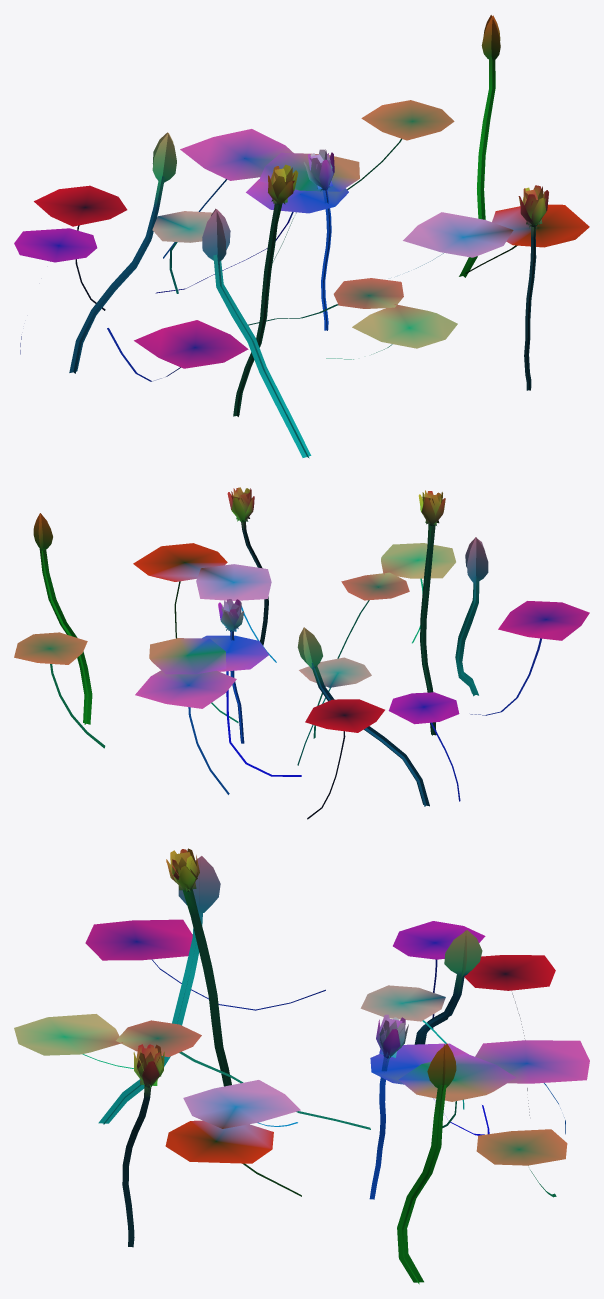
File: Rembrandt_Water_Lily_uc2kajgia_High_uc2kajgia_VarC_LOD1.fbx
3 views of the same model, one above another, from view 1: azimuth 30°, elevation 25°; view 2: azimuth 150°, elevation 25°; view 3: azimuth 270°, elevation 25° (orthographic). The views are drawn at different scales.
Visible parts, largest first — view 1: _bb9f_VarC_LOD2; view 2: _bb9f_VarC_LOD2; view 3: _bb9f_VarC_LOD2.
Part boxes in pixels (x1,y1,x2,y2): _bb9f_VarC_LOD2: (14,15,589,458); _bb9f_VarC_LOD2: (14,487,589,819); _bb9f_VarC_LOD2: (14,848,589,1284).
Size of the model in its own units: 139 by 70.36 by 132.
